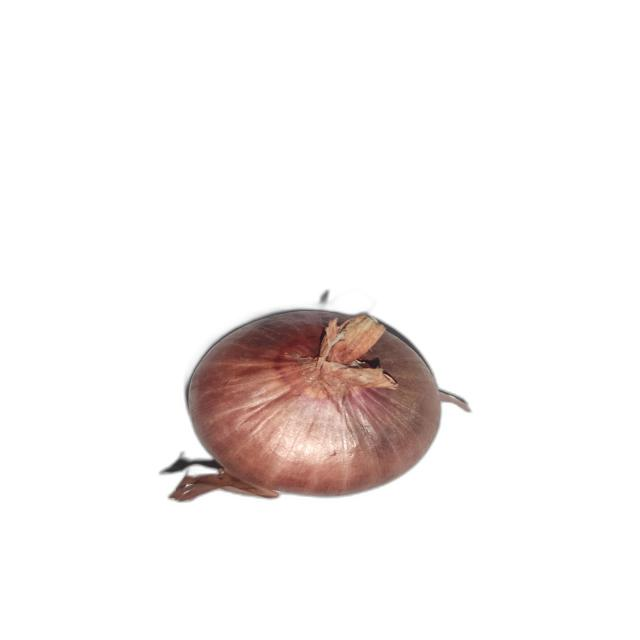onion: (168, 310, 472, 501)
